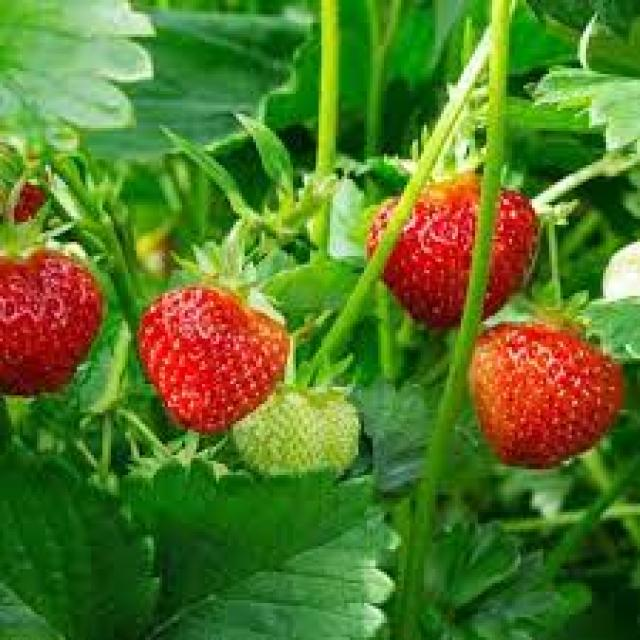strawberry: (132, 275, 288, 435), (467, 317, 631, 467)
